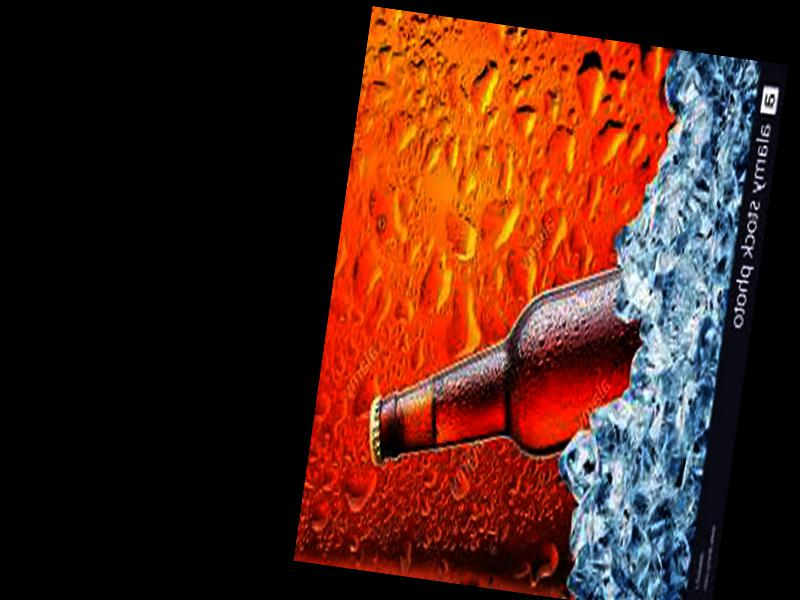Beer: (360, 239, 652, 512)
